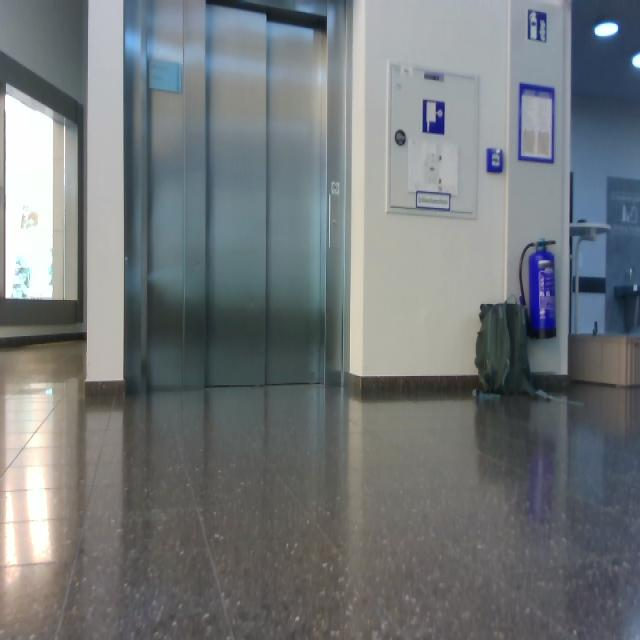door: (124, 1, 346, 393)
fire extinguisher: (519, 238, 557, 340)
light bulb: (21, 204, 39, 230), (594, 21, 619, 38), (632, 52, 640, 69)
tiled floor: (2, 344, 638, 638)
